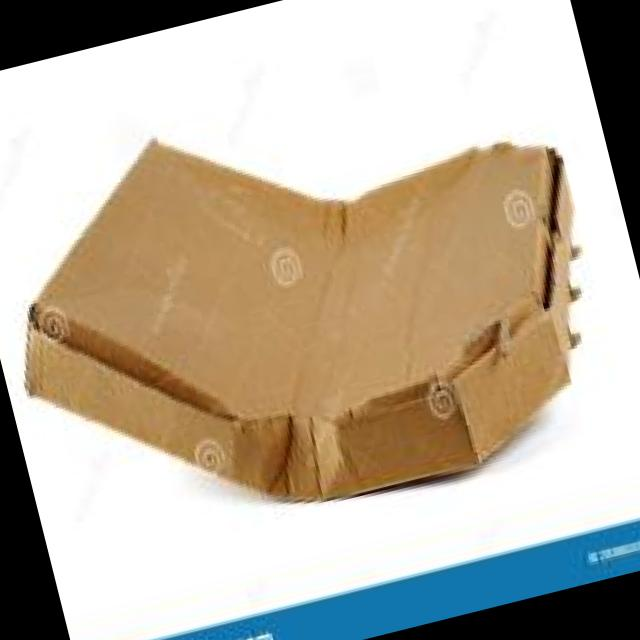box: (62, 90, 610, 493)
